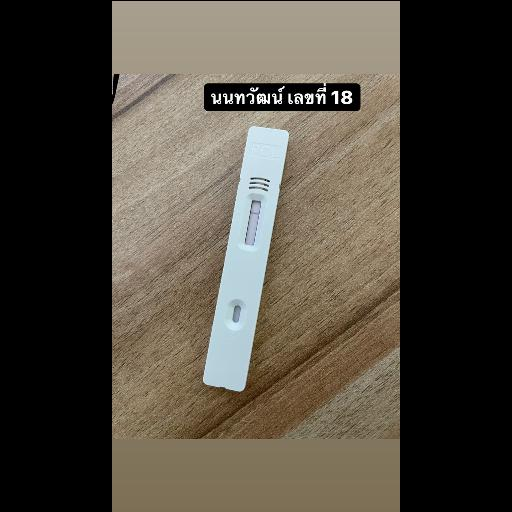Neg: (202, 125, 289, 392)
